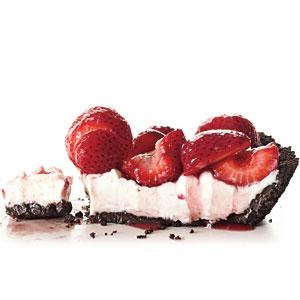background: (30, 49, 140, 112), (0, 29, 38, 105)
